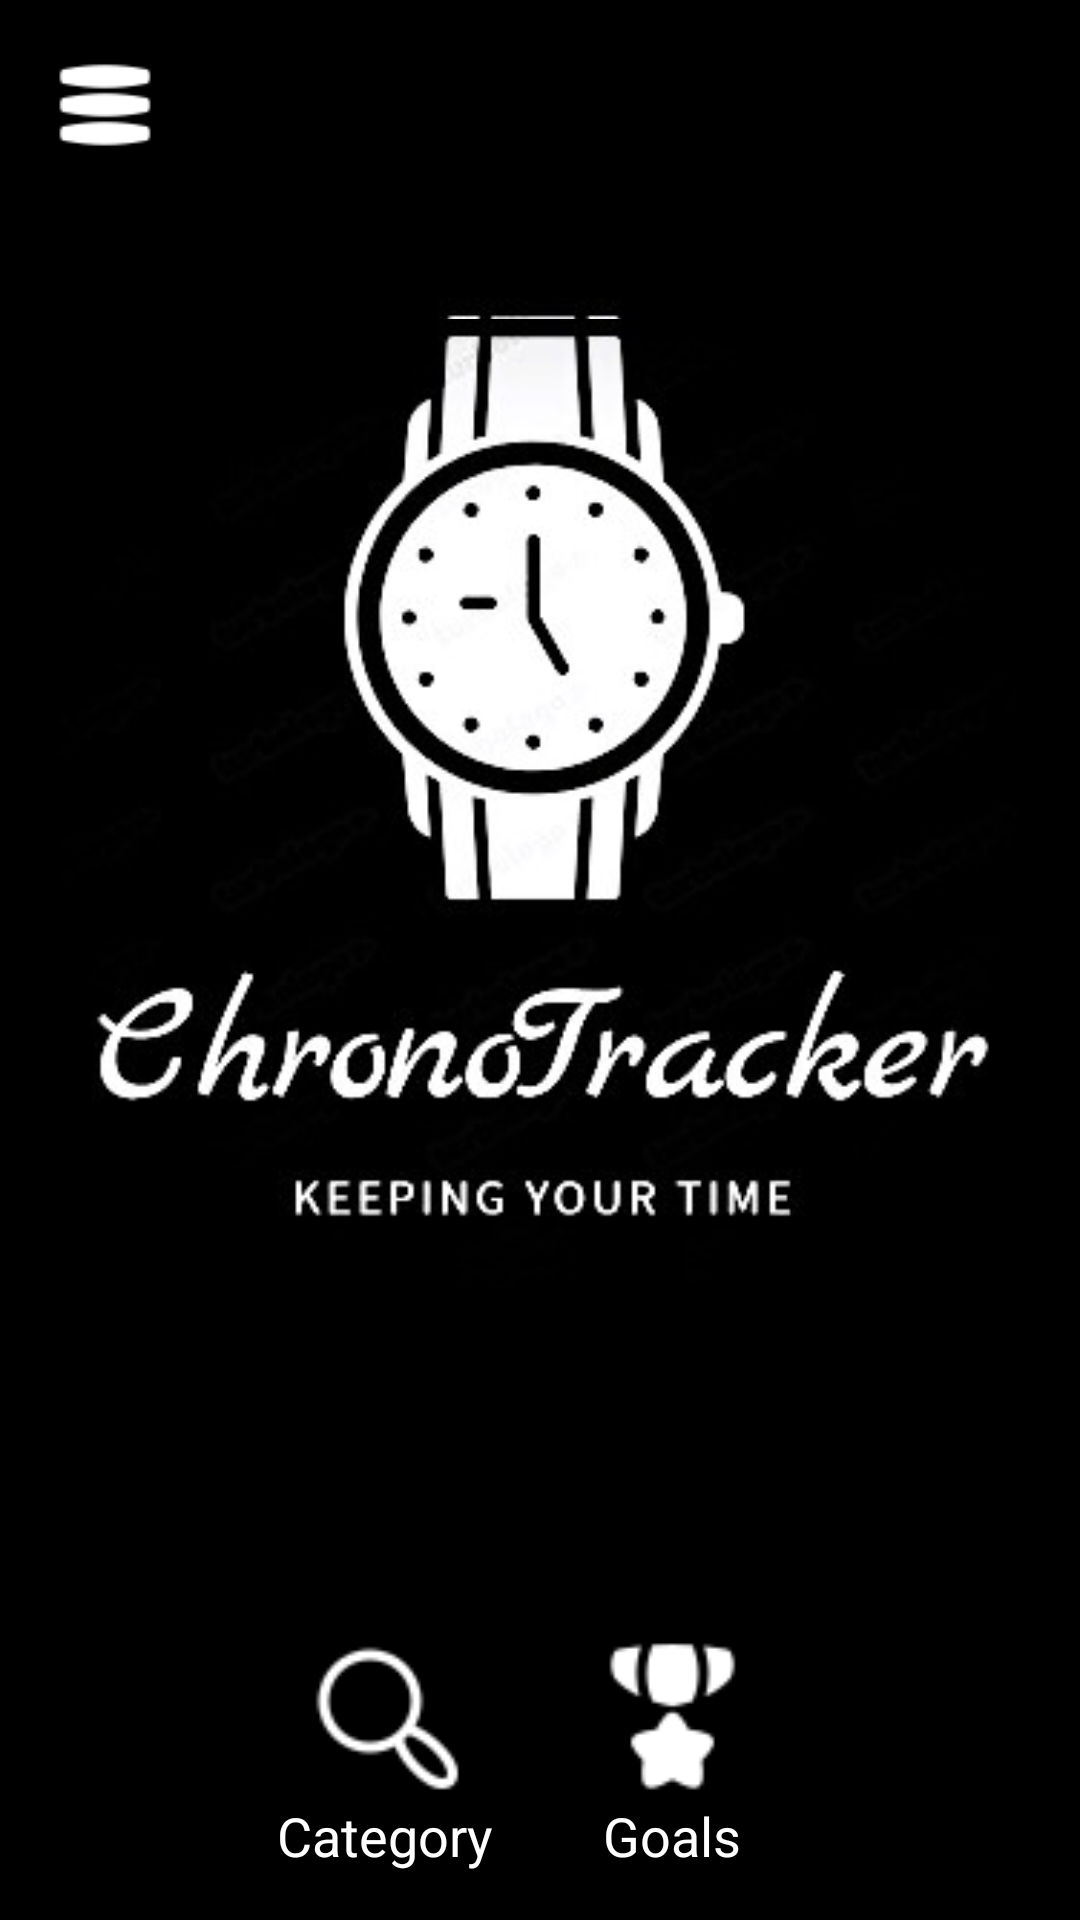

Screen size 1080 x 1920. Icon name, then its center in pixels as [x,y]:
medal: [672,1716]
menu: [105,105]
search: [387,1718]
